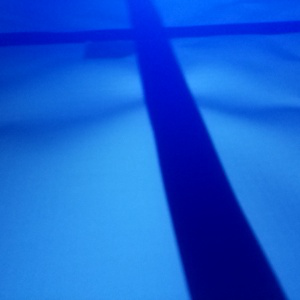bottom_left: (85, 29, 168, 58)
